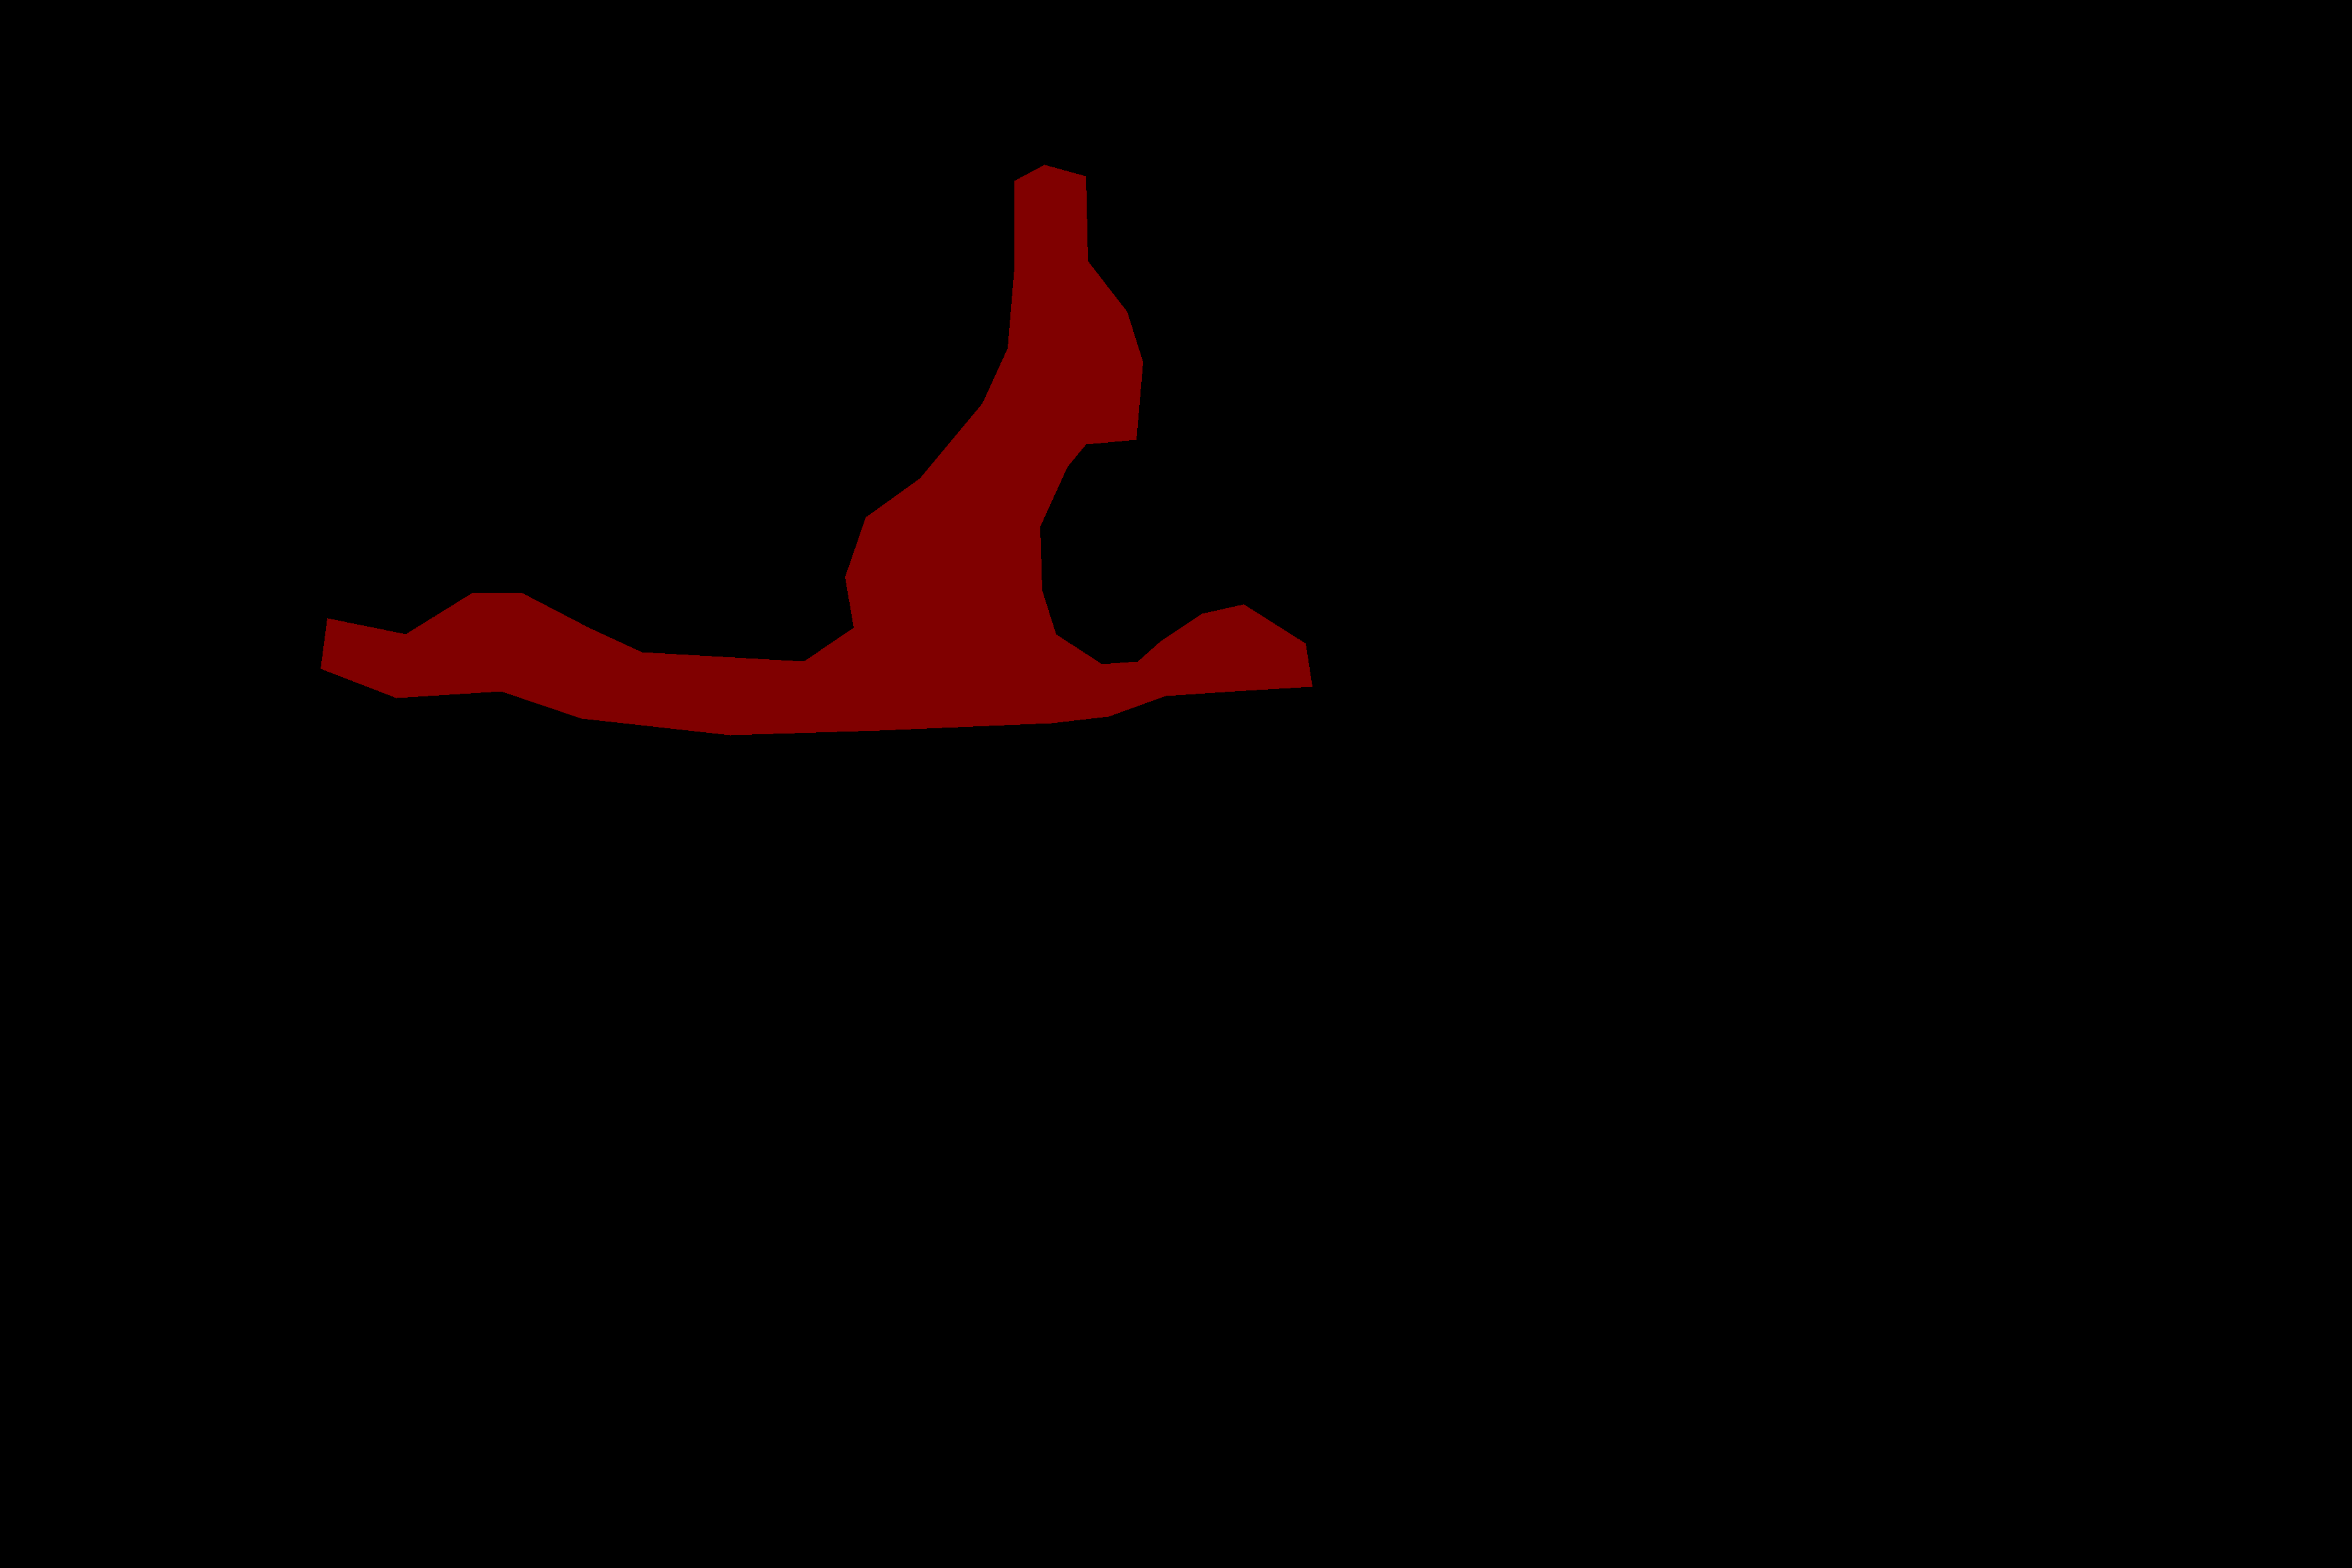fire: (320, 165, 1312, 735)
